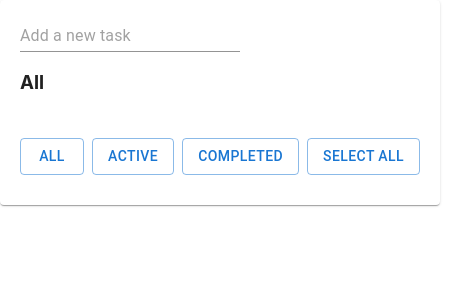
Test: Functionality › adds a new task
The image size is (458, 286).
Step 1. Type "Test Task" into the field with placeholder "Add a new task" → (130, 36), box [20,20,240,52]
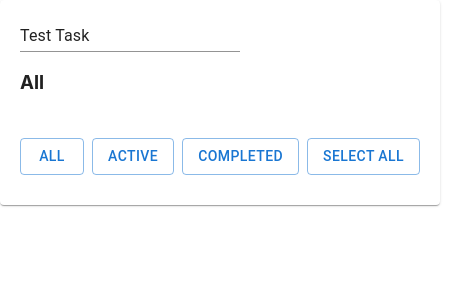
Step 2. Press Enter in the field with placeholder "Add a new task", box [20,20,240,52]
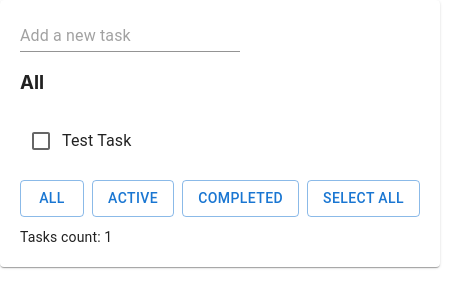
Result: the text "Test Task" is shown at [62,131,132,150]
